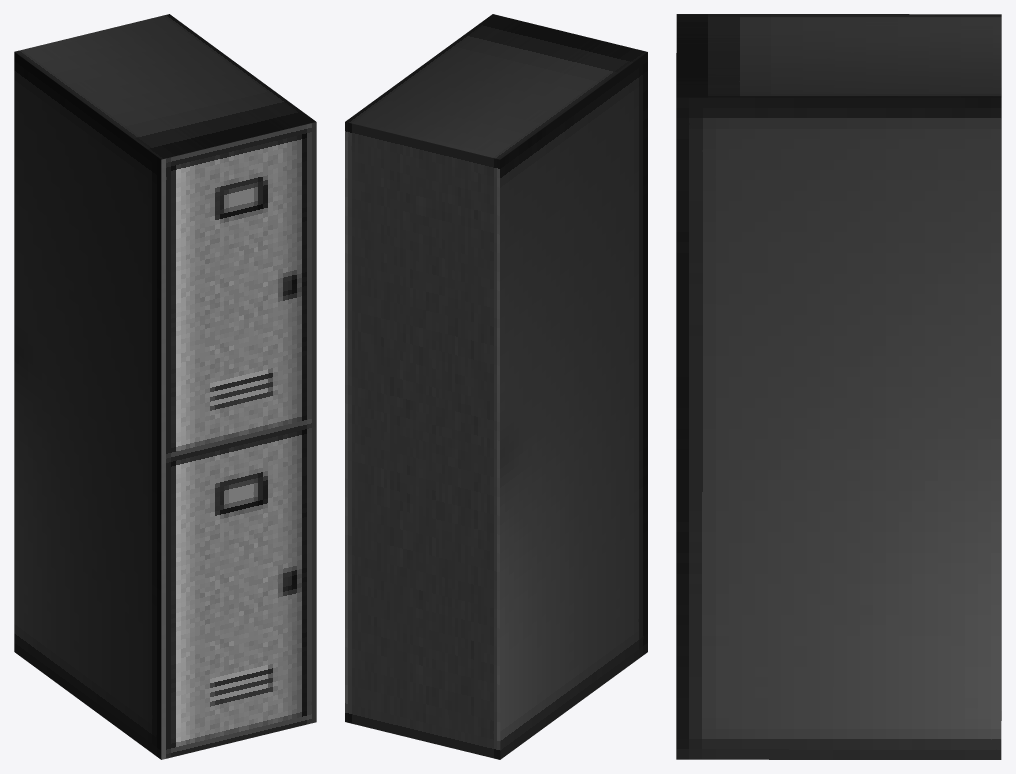
File: primary_170.glb
The picture shows the model from 3 angles, left to right: view 1: azimuth 30°, elevation 25°; view 2: azimuth 150°, elevation 25°; view 3: azimuth 270°, elevation 25°; orthographic projection. The views are drawn at different scales.
Parts seen in each view (by area): view 1: Object; view 2: Object; view 3: Object.
Boxes of the visible parts, bbox=[...] form: Object: bbox=[14, 14, 316, 759]; Object: bbox=[345, 14, 647, 759]; Object: bbox=[676, 14, 1001, 759].
Bounding box in the file's own units: 0.72 × 2.66 × 1.18.
Materials: 5 (5 with a texture image).
